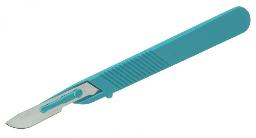scalpel: (6, 6, 250, 130)
